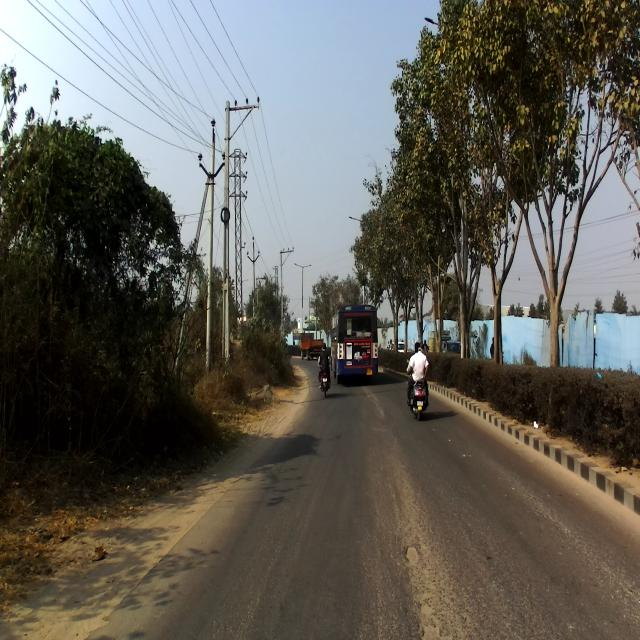electric pole ahead at: (196, 72, 260, 386)
